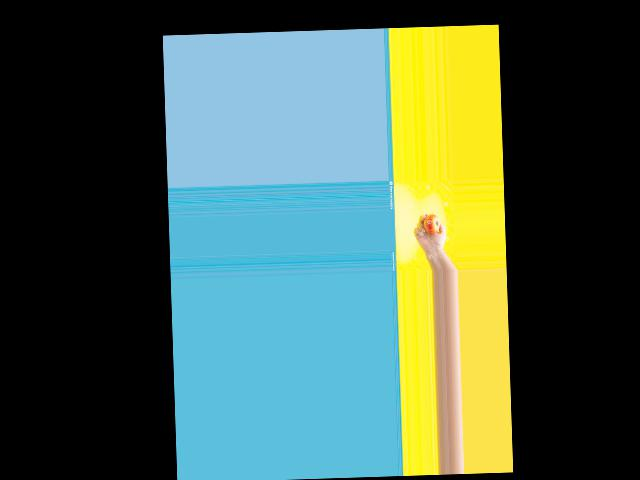tomato: (422, 214, 439, 234)
